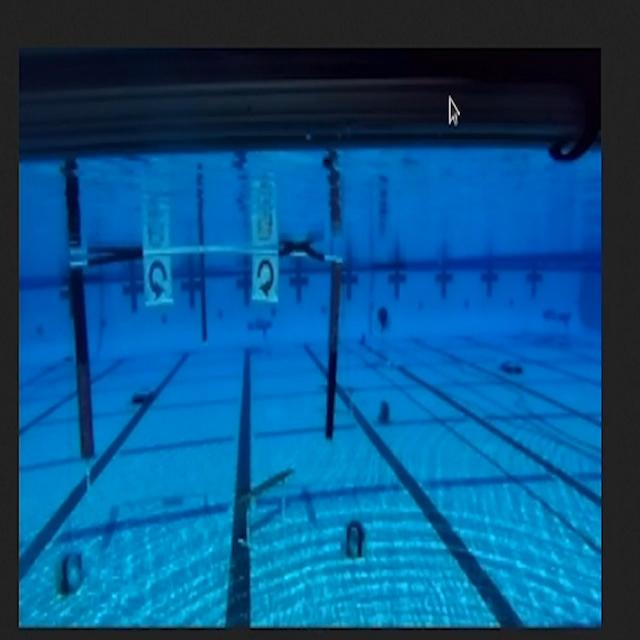Gate: (65, 240, 349, 454)
